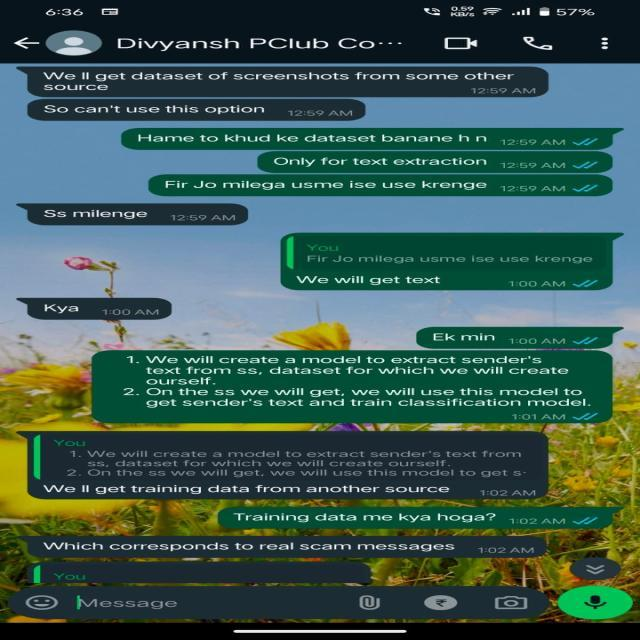scam: (30, 68, 552, 97), (27, 536, 549, 556), (29, 481, 548, 498), (26, 98, 367, 120), (28, 204, 252, 226), (27, 298, 175, 318)
